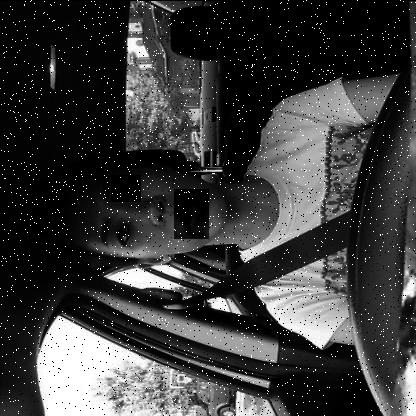seatbelt: (25, 125, 346, 286)
